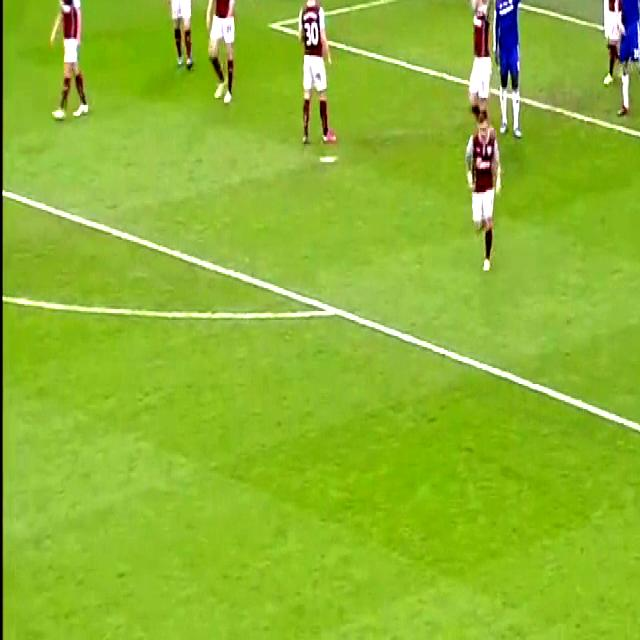soccer-player: (289, 0, 346, 167), (461, 102, 505, 282), (44, 0, 101, 135), (486, 0, 529, 139), (207, 0, 247, 116), (462, 0, 495, 135), (607, 0, 640, 128), (151, 0, 198, 80)
